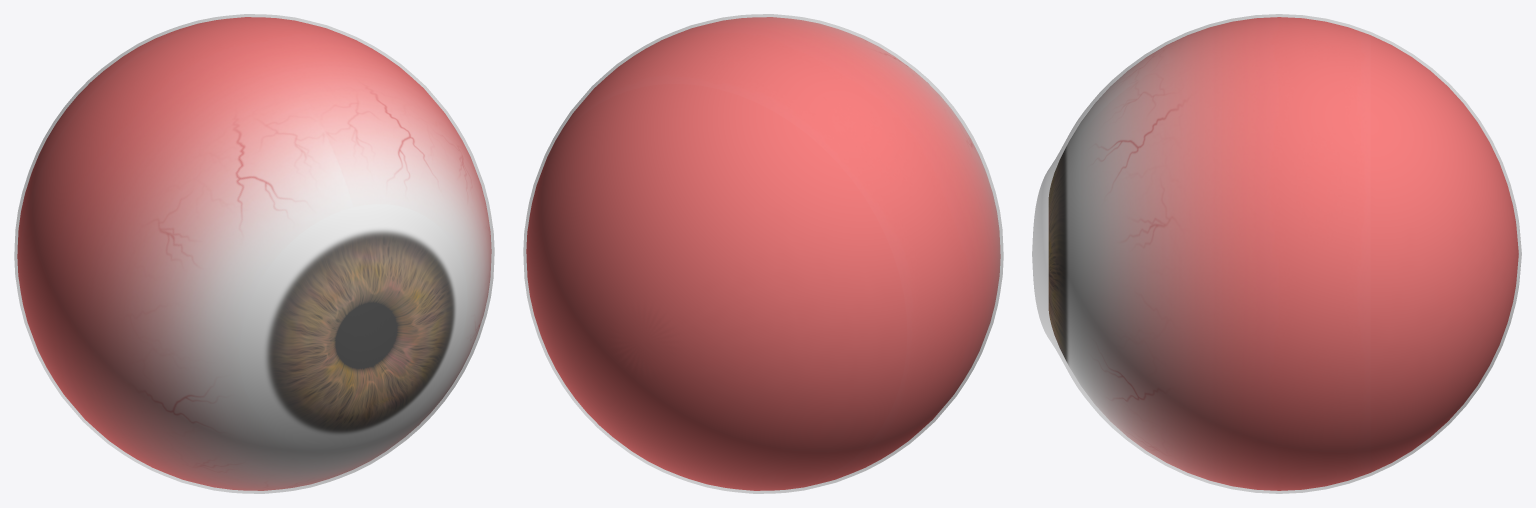
The model's file is eye.glb.
The picture shows the model from 3 angles, left to right: view 1: azimuth 30°, elevation 25°; view 2: azimuth 150°, elevation 25°; view 3: azimuth 270°, elevation 25°; orthographic projection.
Visible parts, largest first — view 1: EyeGlass, Eye; view 2: EyeGlass, Eye; view 3: EyeGlass, Eye.
Boxes of the visible parts, left/top/right/bottom form: EyeGlass: left=14, top=14, right=494, bottom=493; Eye: left=17, top=17, right=491, bottom=490; EyeGlass: left=523, top=14, right=1003, bottom=493; Eye: left=526, top=17, right=1000, bottom=490; EyeGlass: left=1032, top=14, right=1521, bottom=493; Eye: left=1048, top=17, right=1518, bottom=490.
Bounding box in the file's own units: 2 × 2 × 2.04.
Materials: 2 (1 with a texture image).
